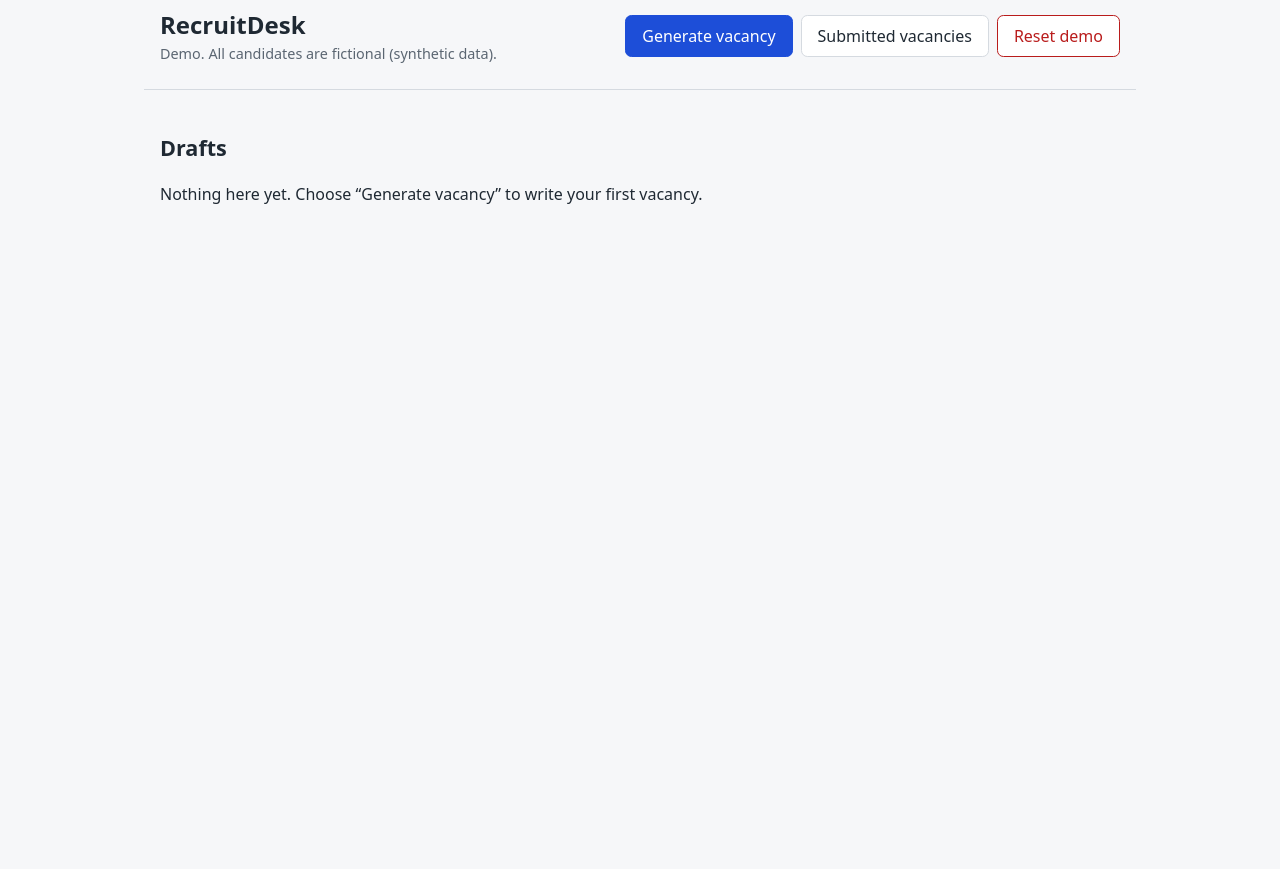
Test: flags are shown in plain words, with what they are about
The width and height of the screenshot is (1280, 869).
Click the button "Submitted vacancies" at (895, 36), box [801,15,989,57]
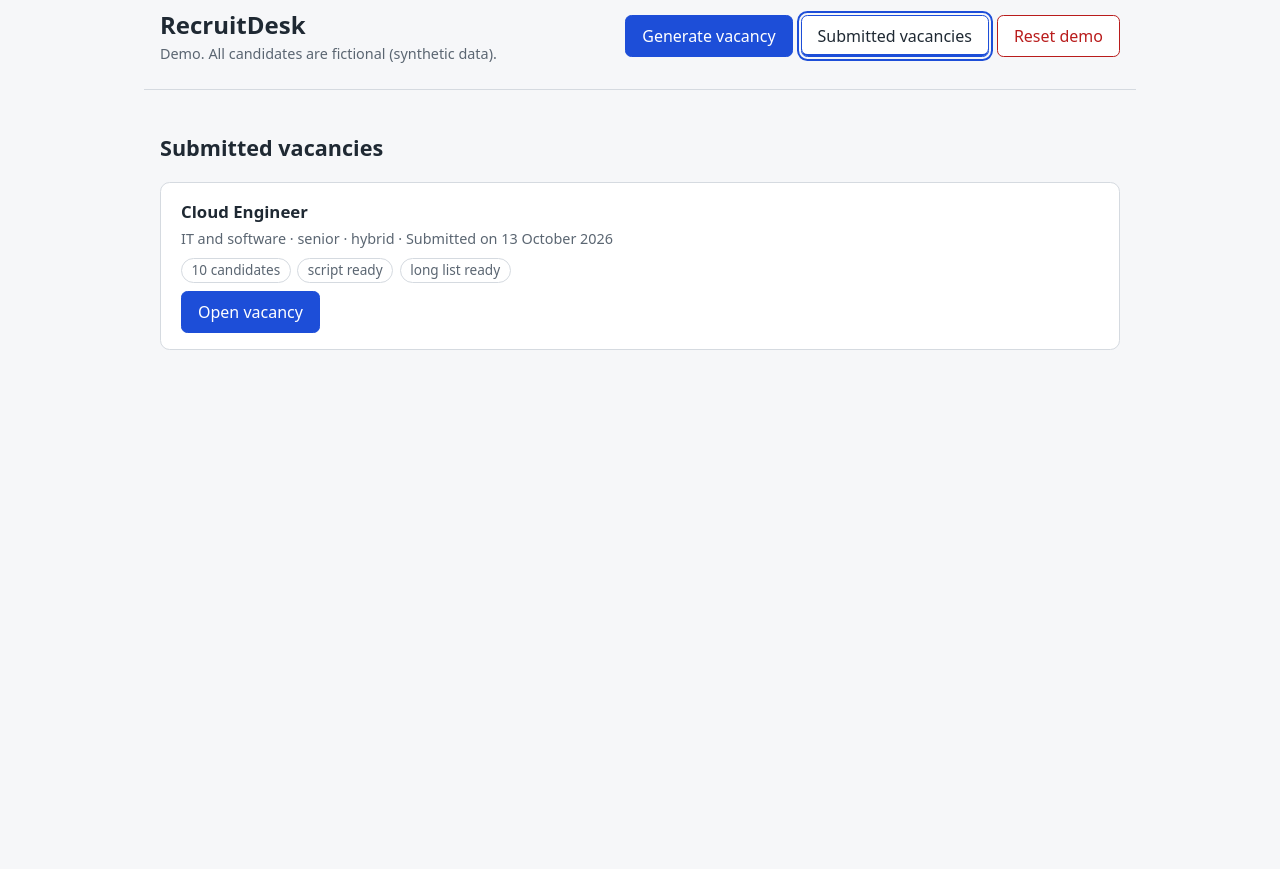
Click the button "Open vacancy" at (250, 312), box [181,291,320,333]
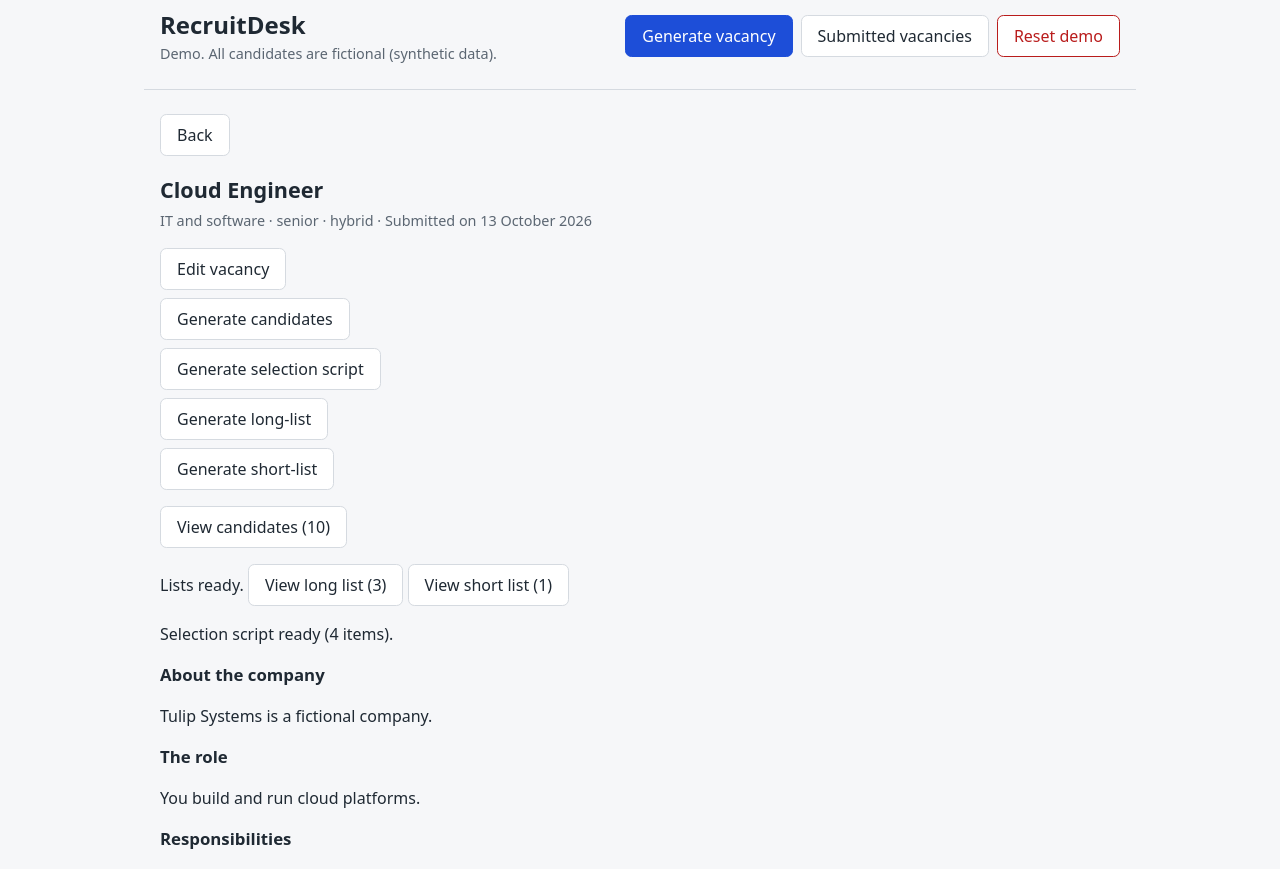
Now the list named "Actions" is shown, box [160,248,381,490]
Click the button "View long list (3)" at (326, 584), box [248,564,403,606]
(page scrolled)
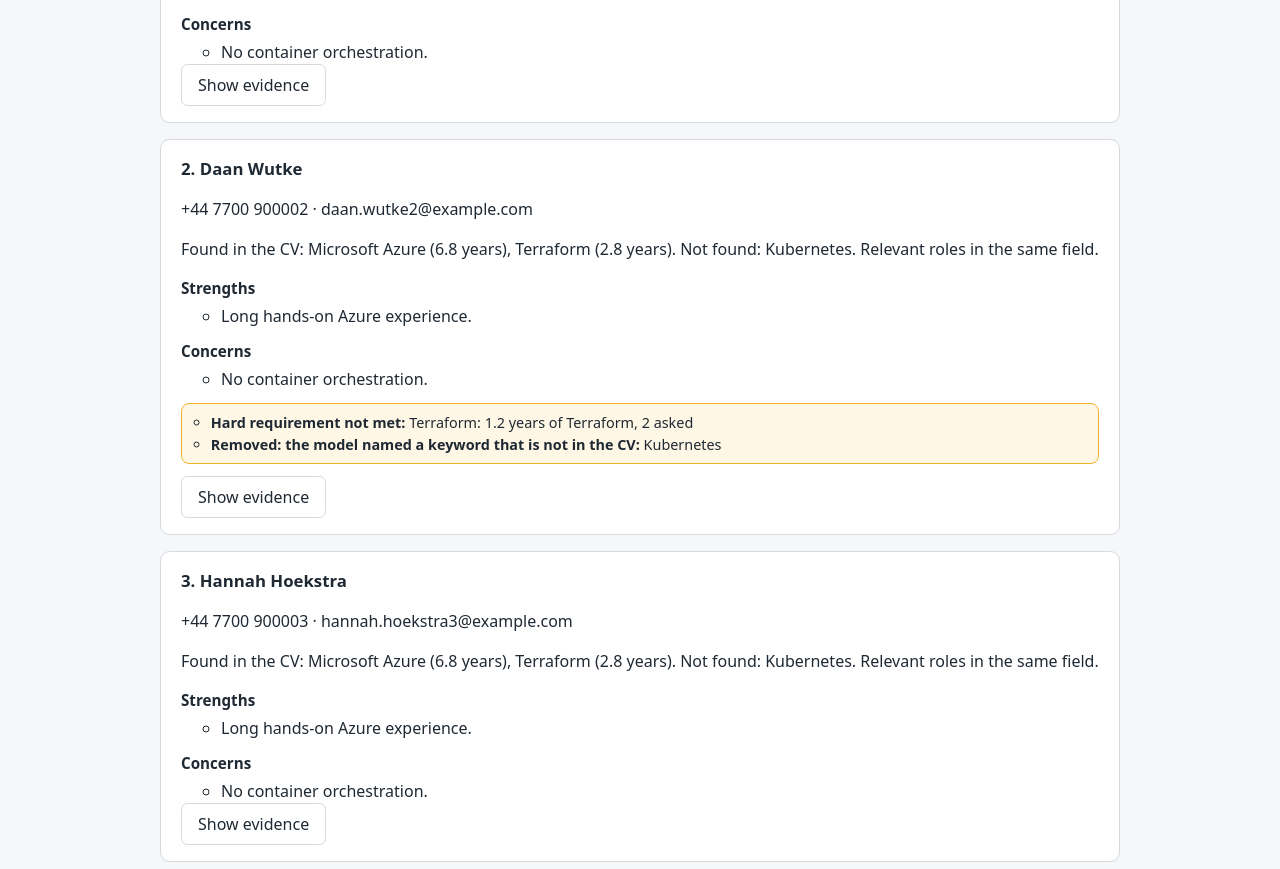
Now the list named "Flags for Daan Wutke" shows "Hard requirement not met: Terraform: 1.2 years of Terraform, 2 asked", box [181,403,1099,464]
Now the list named "Flags for Daan Wutke" shows "Removed: the model named a keyword that is not in the CV: Kubernetes", box [181,403,1099,464]
